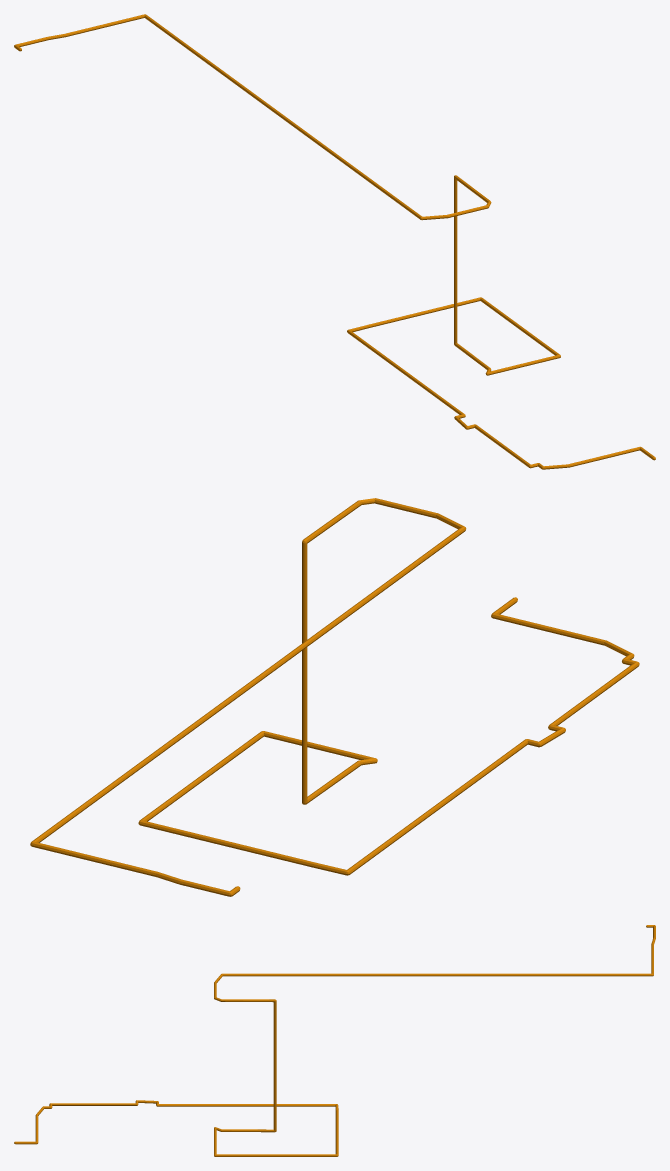
3 views of the same model, one above another, from view 1: azimuth 30°, elevation 25°; view 2: azimuth 150°, elevation 25°; view 3: azimuth 270°, elevation 25° (orthographic). The views are drawn at different scales.
Size of the model in its own units: 1656 by 1020 by 4474.
